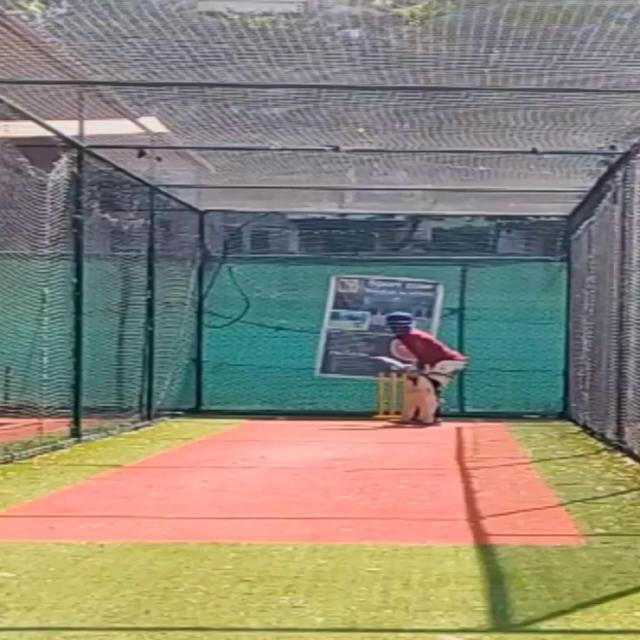stump: (372, 370, 410, 419)
